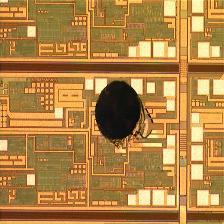PARTICLE: (94, 79, 156, 151)
